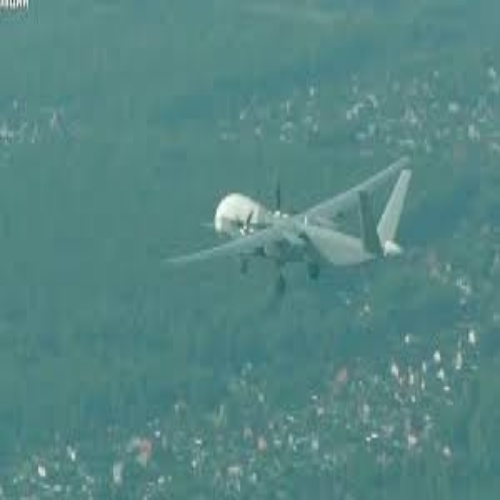uav: (161, 155, 413, 297)
